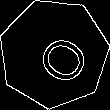O_NW: (21, 21, 87, 85)
